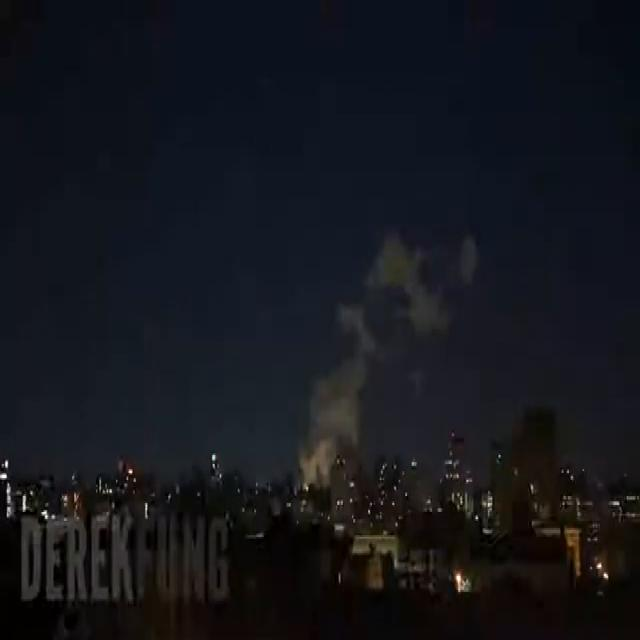smoke: (299, 306, 375, 482)
